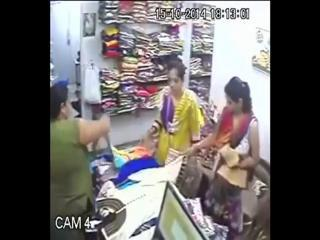Normal: (190, 76, 260, 236), (50, 80, 112, 239), (146, 65, 204, 164)
